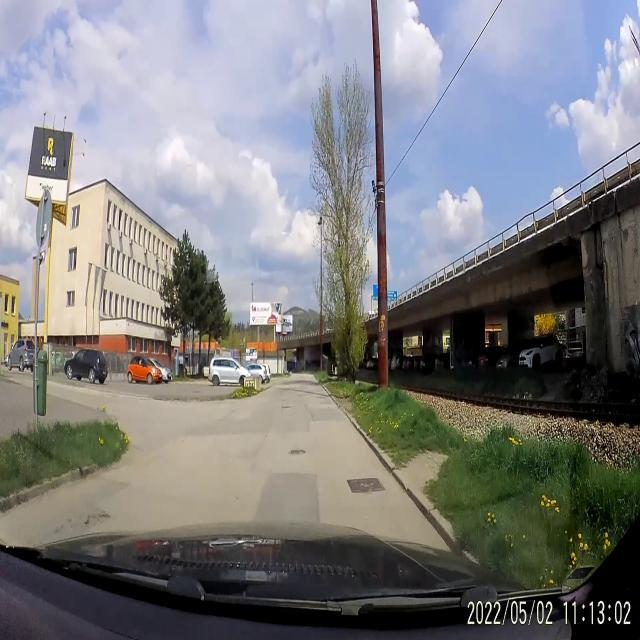Manhole: (346, 474, 387, 496)
Pothole: (83, 509, 112, 534), (288, 446, 306, 459), (280, 403, 292, 413)
